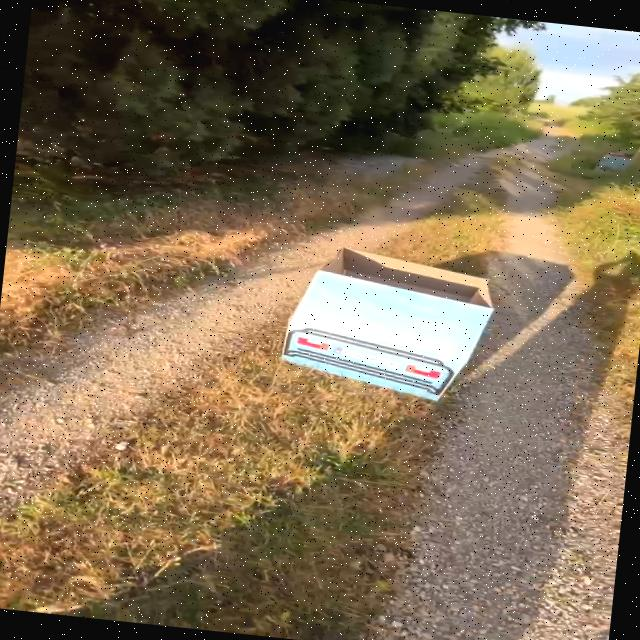blue_car: (239, 230, 513, 422)
